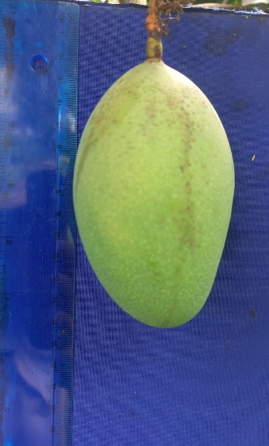Mango-sano: (73, 0, 234, 327)
